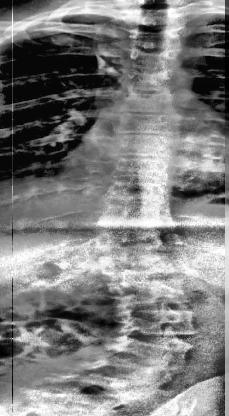Vertebrae: (86, 352, 172, 394), (102, 305, 198, 339), (109, 332, 193, 370), (105, 271, 187, 307), (94, 203, 178, 234), (92, 223, 170, 255), (97, 247, 178, 277), (104, 156, 178, 188), (101, 186, 175, 216), (114, 106, 186, 136), (112, 130, 184, 160), (125, 44, 183, 78), (119, 88, 185, 116), (123, 5, 186, 31), (126, 25, 184, 53), (124, 68, 176, 94)
